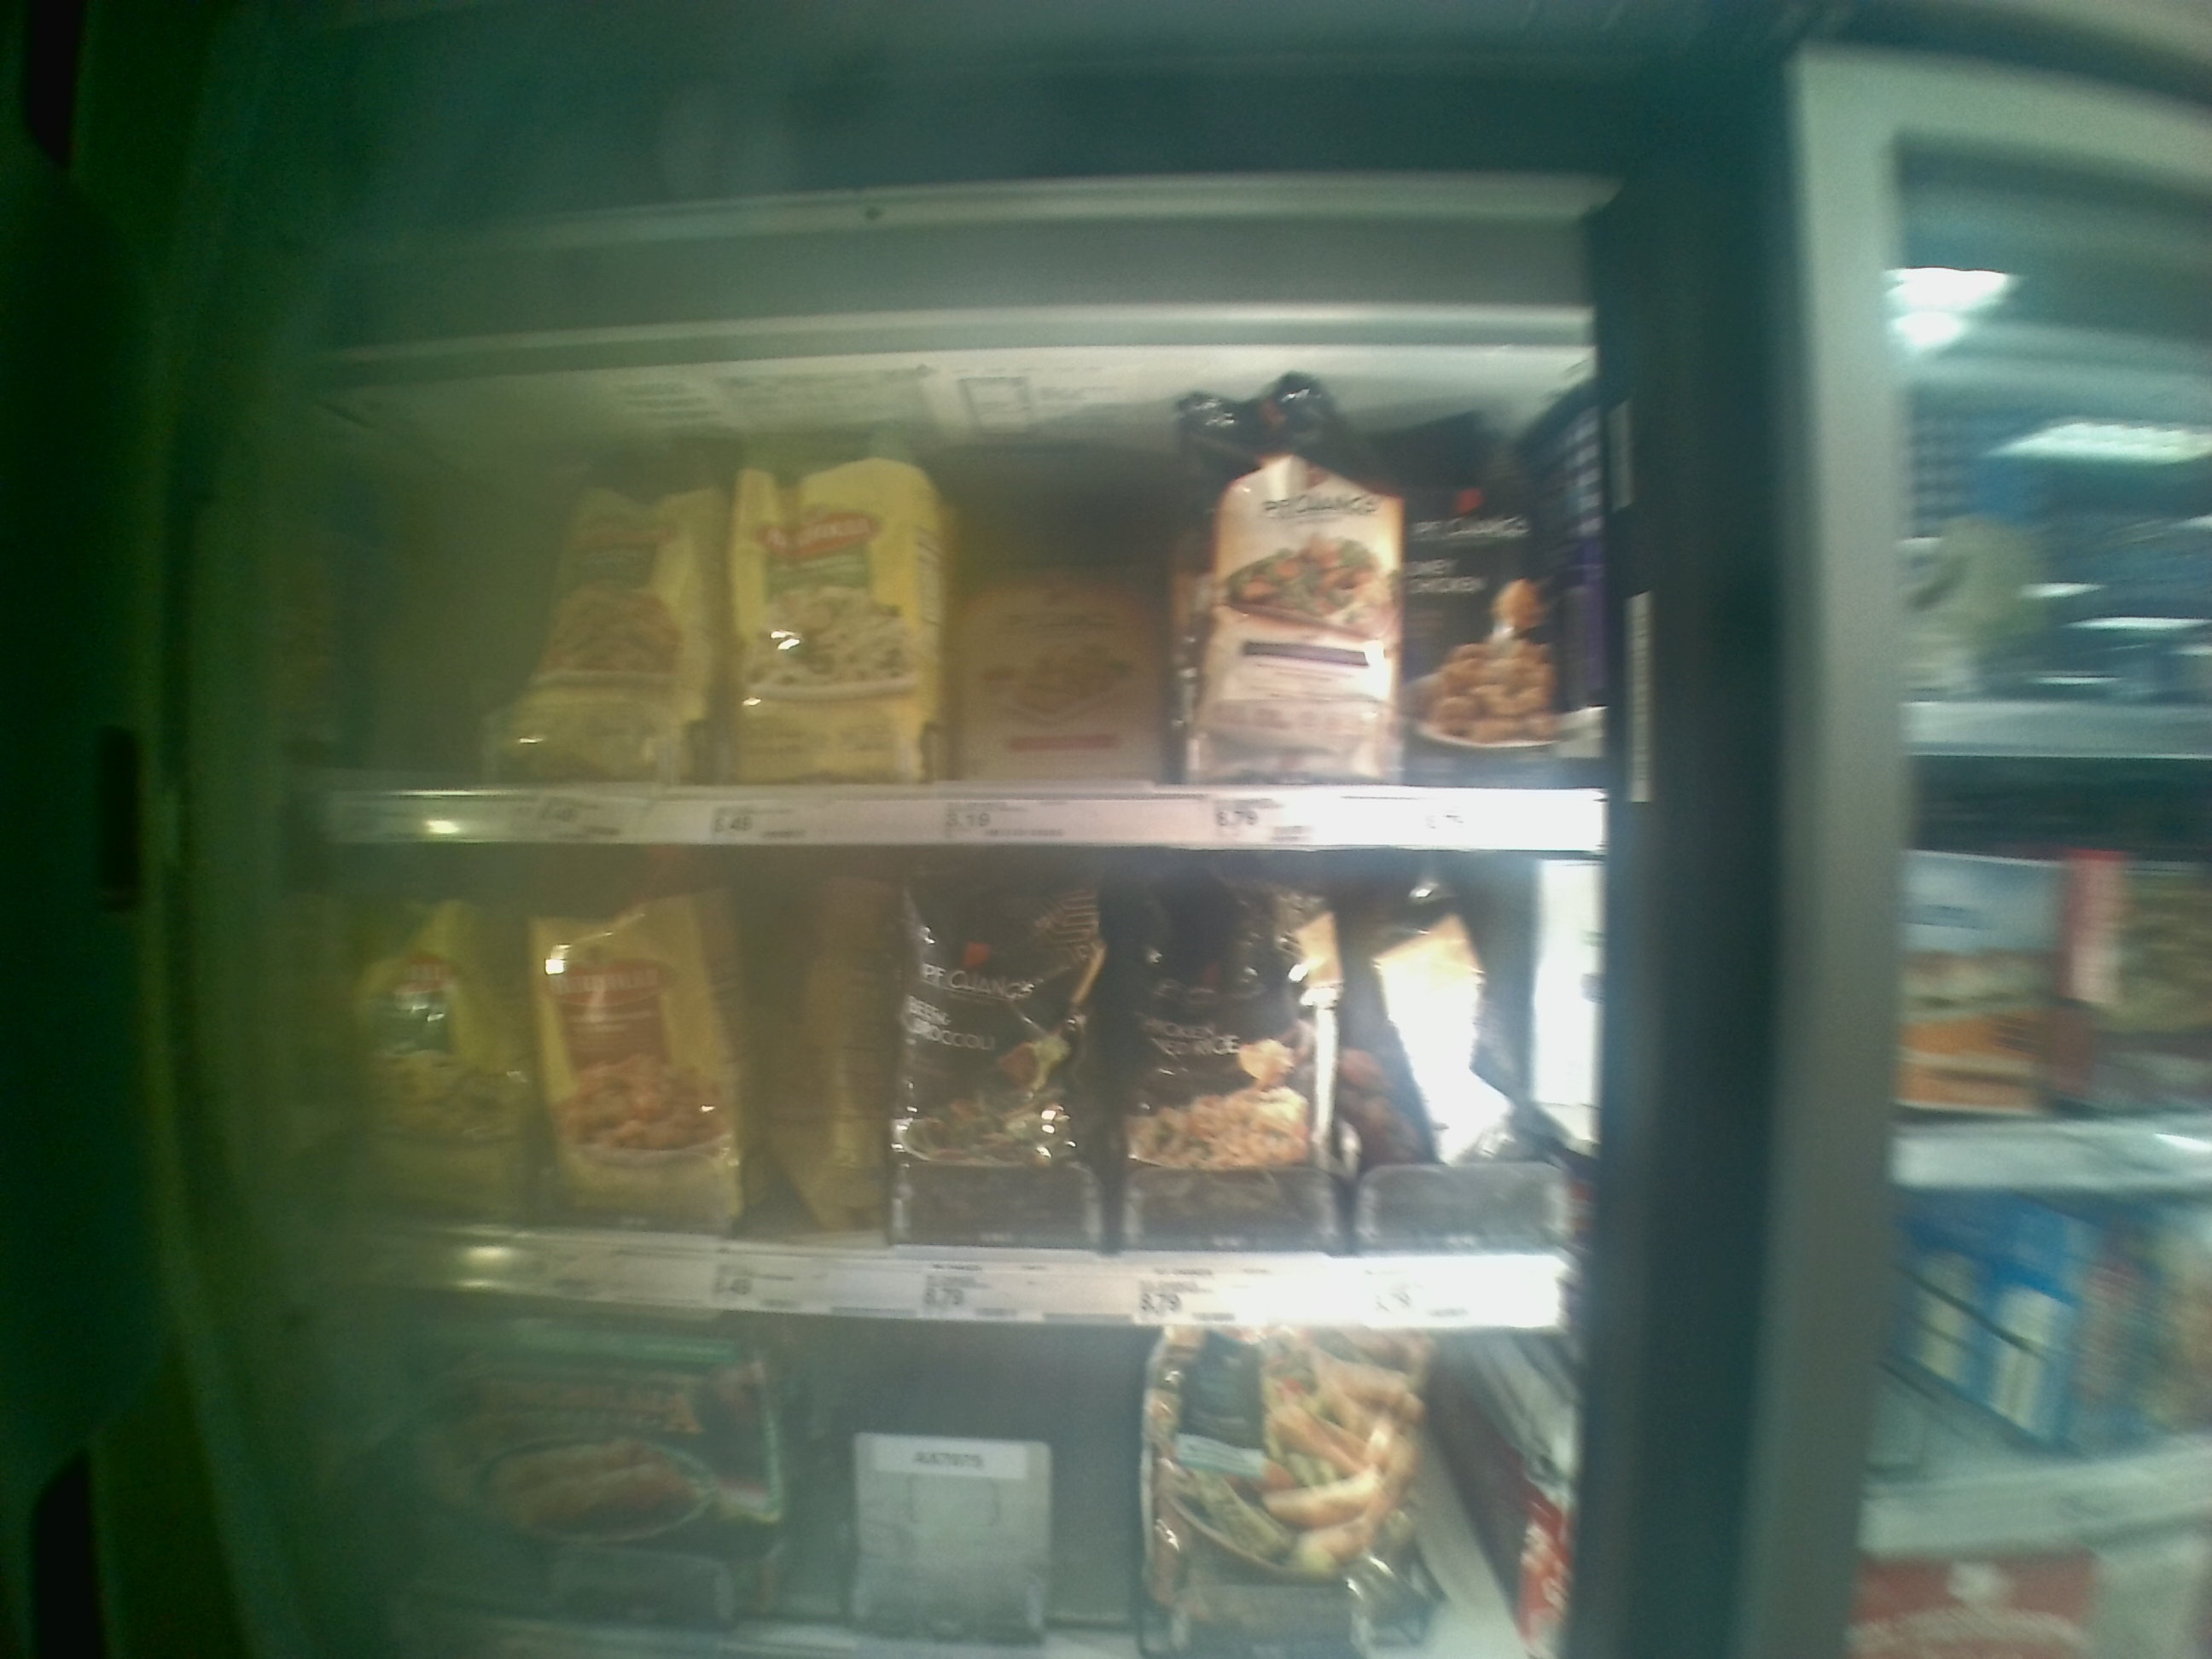frozen-food-shelf: (340, 847, 1568, 1337), (312, 429, 1615, 856)
